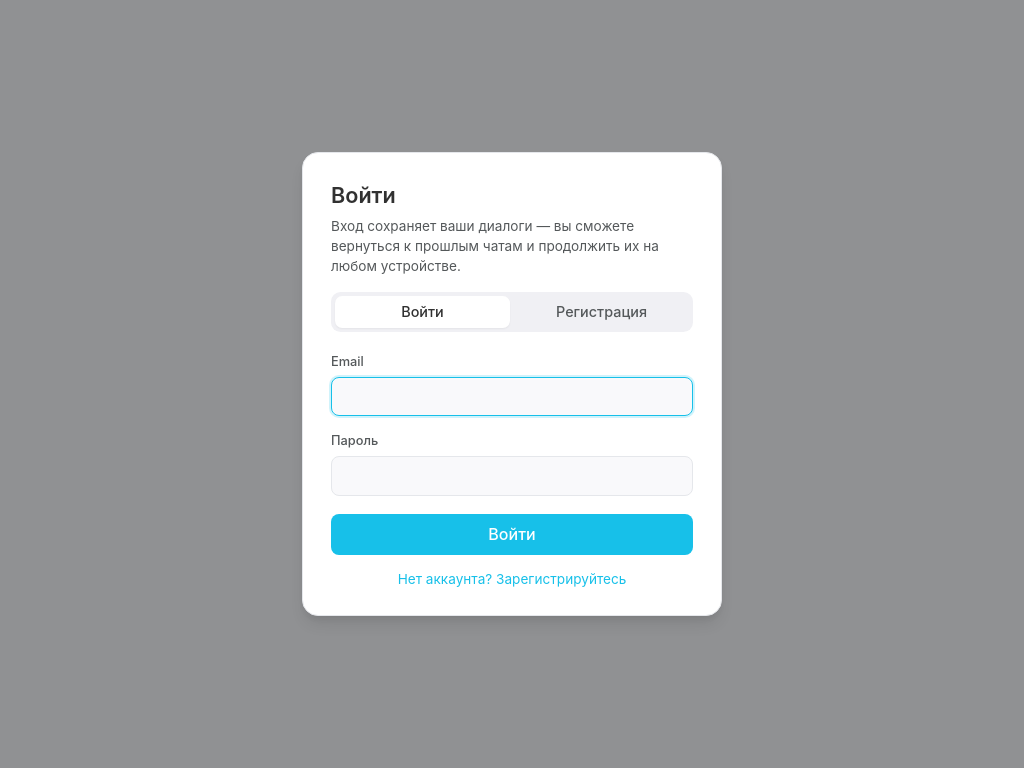
Test: AuthModal › drops a stale consent check when switching tabs and back
The image size is (1024, 768).
Click the tab "Регистрация" at [602, 312], box x1=514 y1=296 x2=689 y2=328
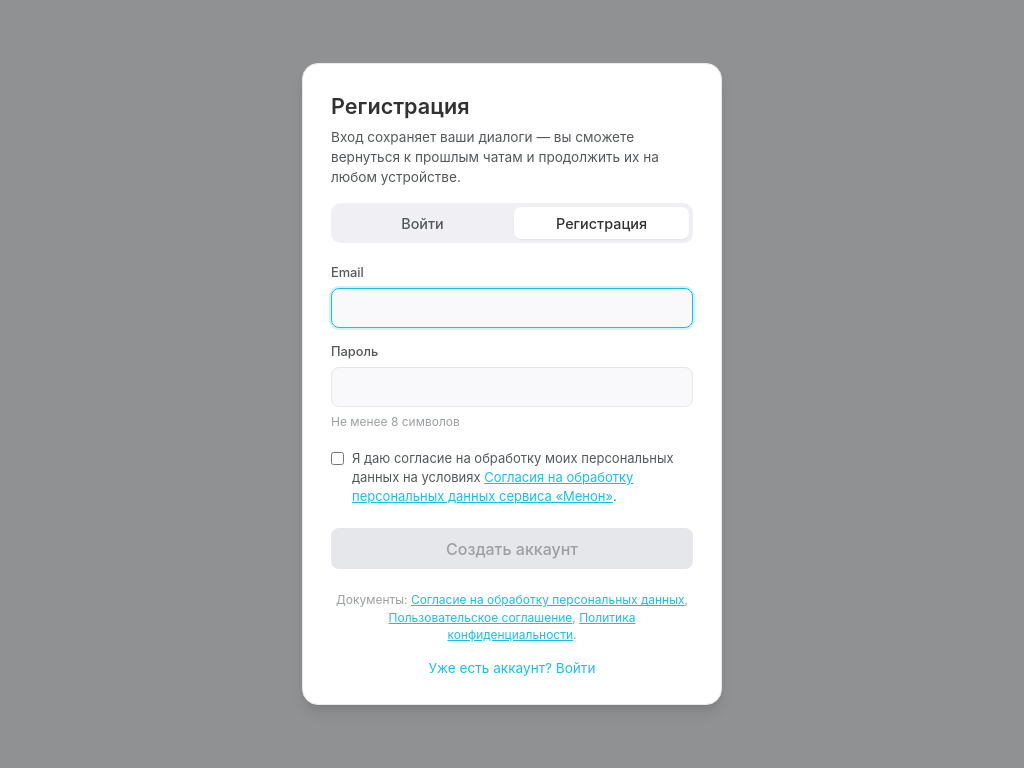
Click the checkbox at [338, 458], box x1=331 y1=452 x2=344 y2=465
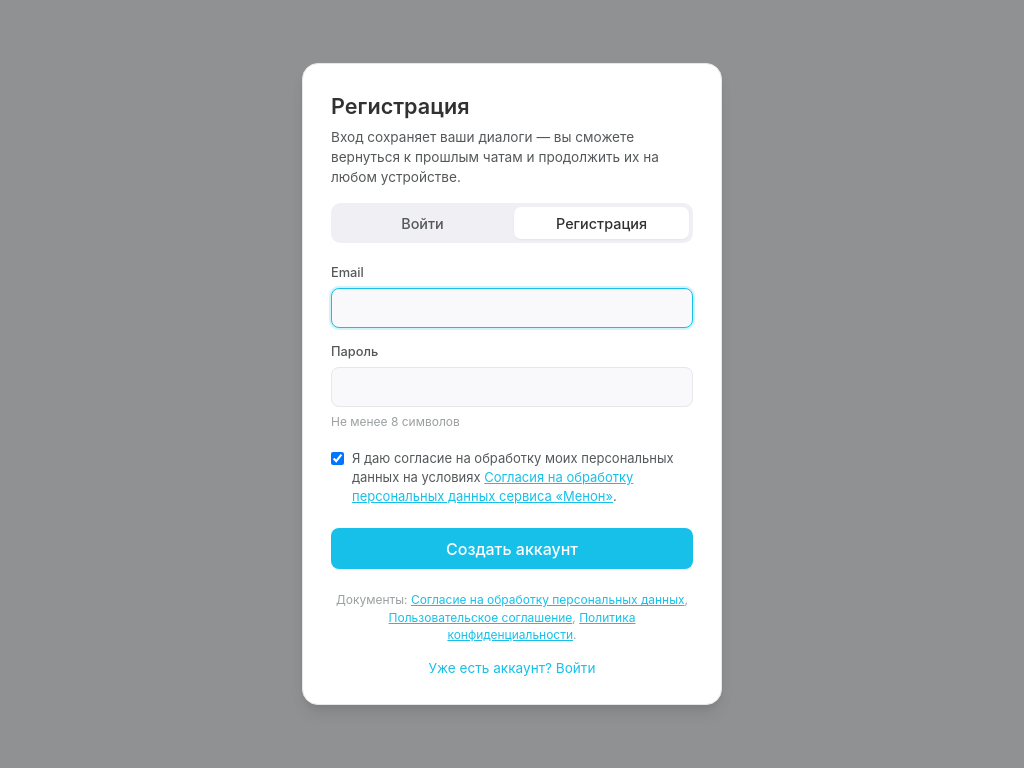
Expected: the checkbox is checked, x1=331 y1=452 x2=344 y2=465
Click the tab "Войти" at [422, 223], box x1=335 y1=208 x2=510 y2=239
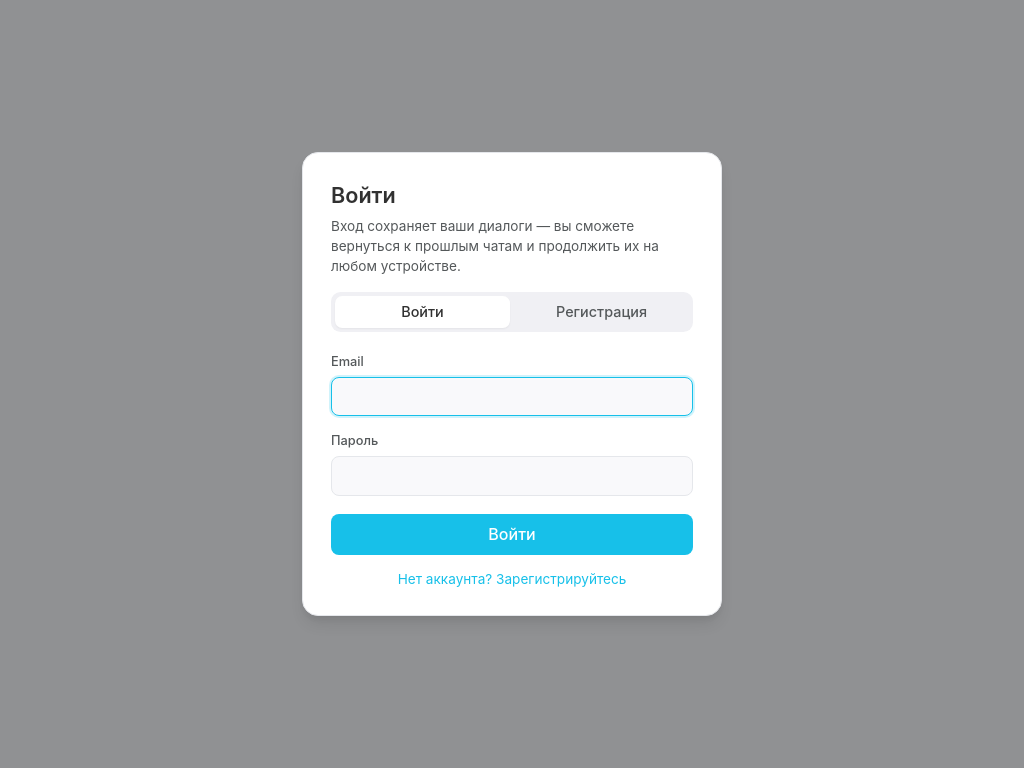
Click the tab "Регистрация" at [602, 312], box x1=514 y1=296 x2=689 y2=328
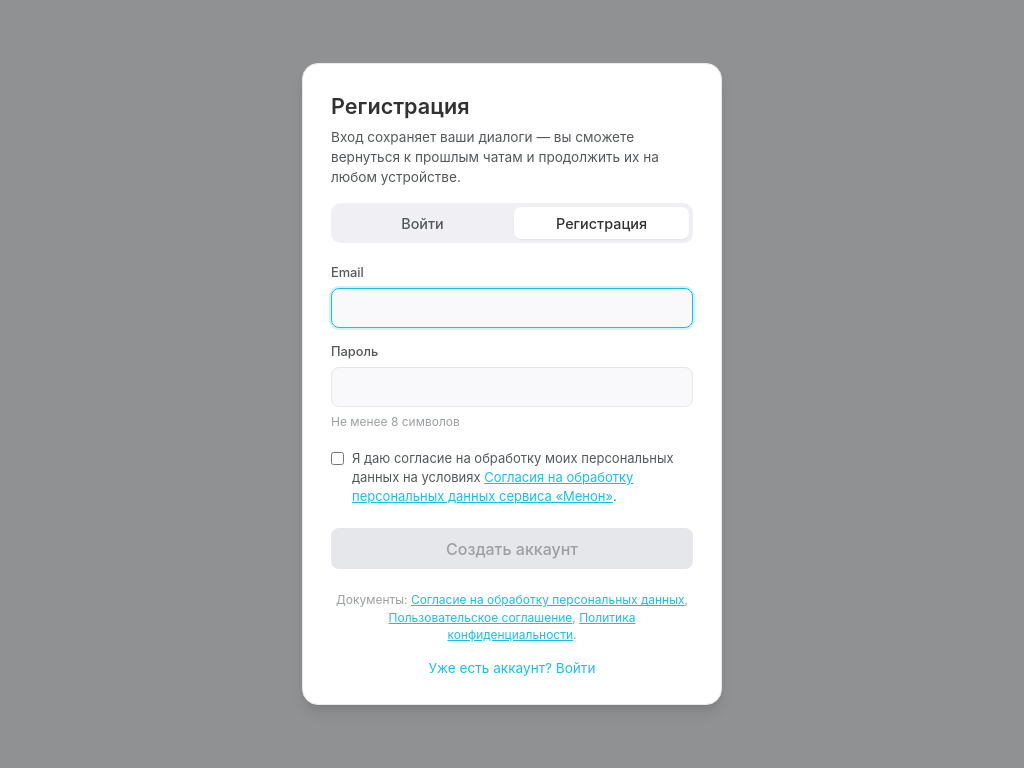
Expected: the checkbox is not checked, x1=331 y1=452 x2=344 y2=465
Expected: the button with class "auth-submit" is disabled, x1=331 y1=528 x2=693 y2=569
